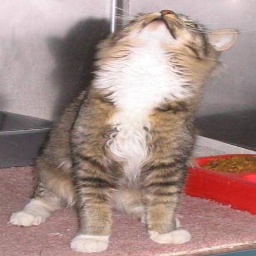cat: (15, 3, 240, 256)
